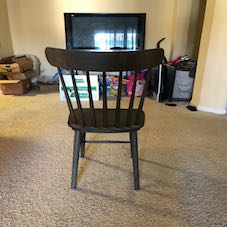chair: (31, 17, 173, 198)
